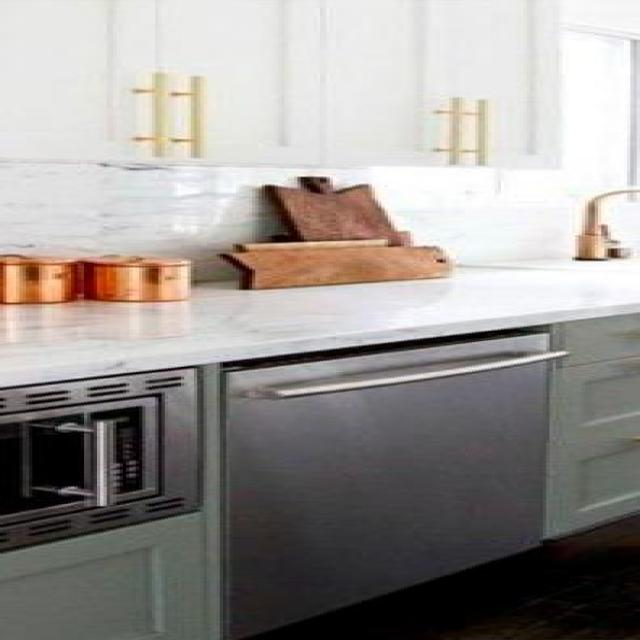dishwasher: (220, 326, 543, 638)
